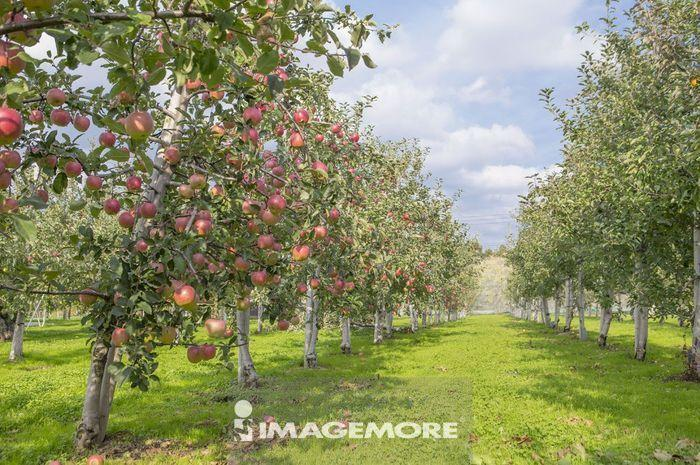apple: (1, 40, 26, 74), (124, 110, 153, 138), (1, 107, 22, 140), (204, 319, 229, 338), (173, 283, 194, 305), (50, 108, 70, 127), (71, 113, 90, 132), (110, 326, 128, 346), (46, 87, 64, 106), (97, 131, 114, 147)
